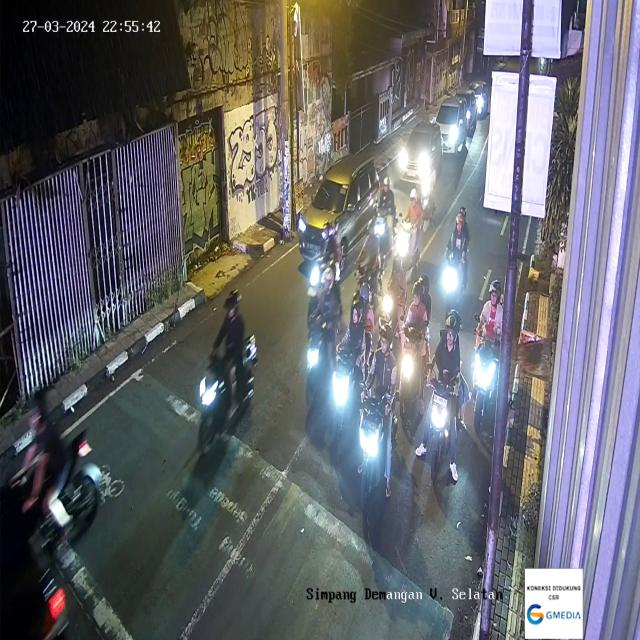motorcycle: (2, 388, 102, 553), (197, 282, 254, 456), (358, 320, 400, 537), (302, 158, 379, 272), (427, 306, 467, 487), (330, 298, 370, 444), (473, 282, 507, 426), (401, 280, 432, 432), (306, 261, 340, 391), (443, 204, 473, 304)
